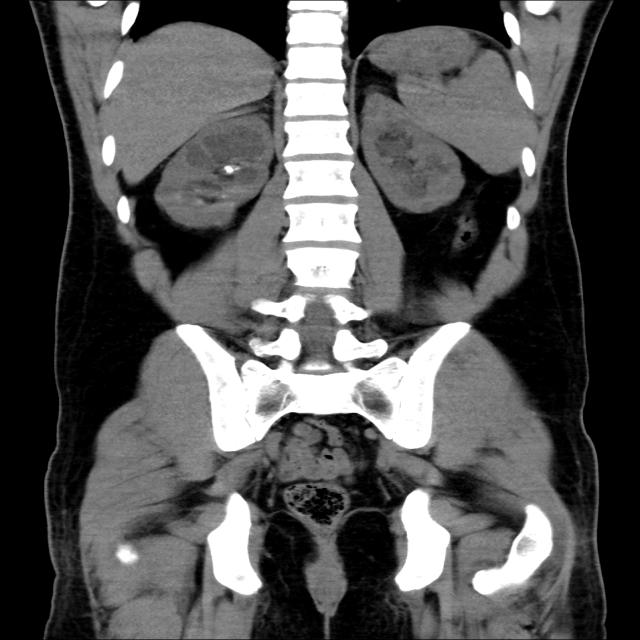kidneystone: (223, 165, 235, 176)
